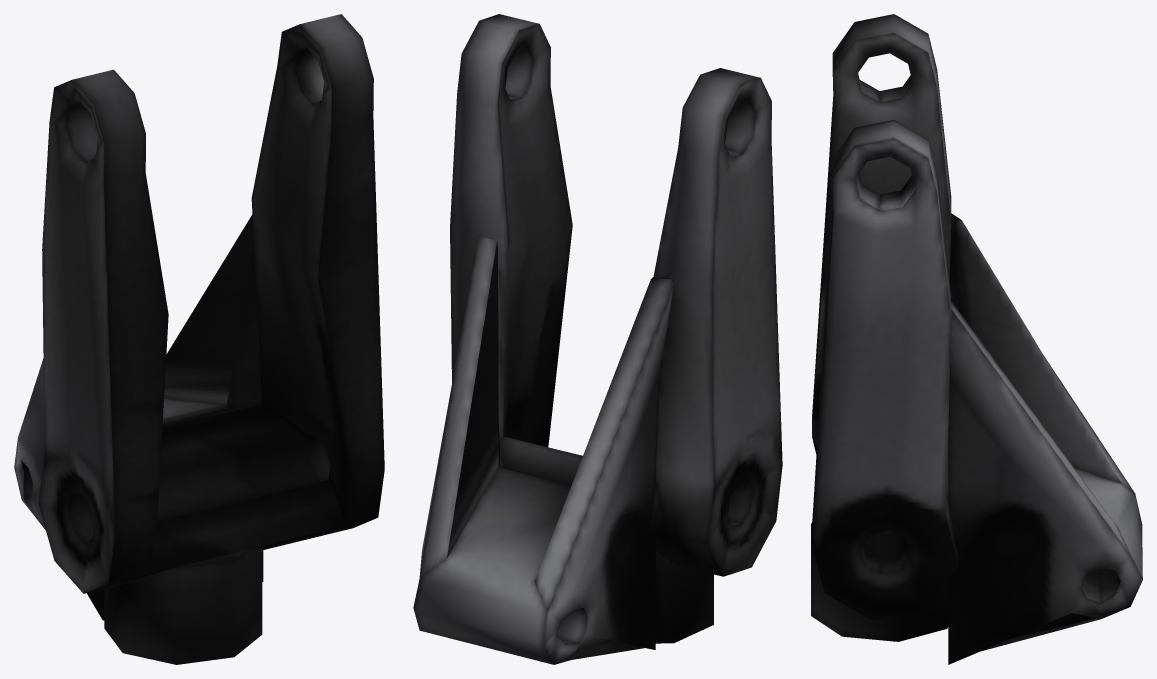
Rendered from l_uglut.dae.
3 views of the same model, side by side, from view 1: azimuth 30°, elevation 25°; view 2: azimuth 150°, elevation 25°; view 3: azimuth 270°, elevation 25° (orthographic). The views are drawn at different scales.
Visible parts, largest first — view 1: l_uglut; view 2: l_uglut; view 3: l_uglut.
Part boxes in pixels (left/top/right/bottom): l_uglut: left=14, top=14, right=384, bottom=664; l_uglut: left=413, top=14, right=782, bottom=664; l_uglut: left=811, top=14, right=1142, bottom=664.
Bounding box in the file's own units: 0.0824 × 0.0922 × 0.1684.
Materials: 1 (1 with a texture image).
